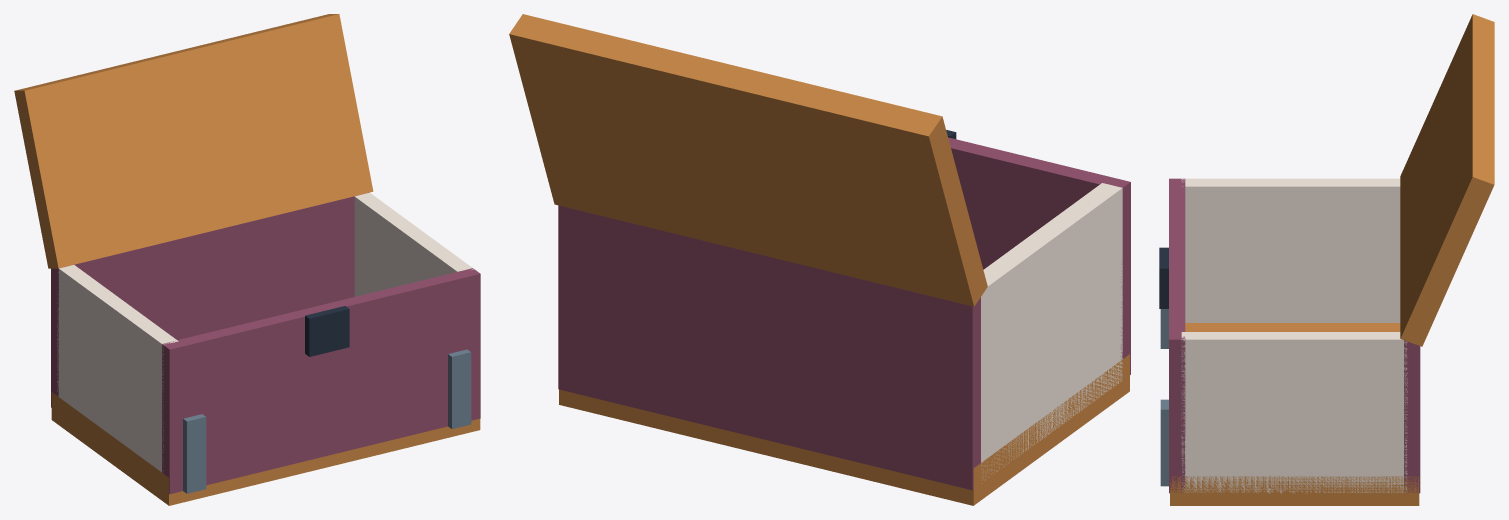
3 views of the same model, side by side, from view 1: azimuth 30°, elevation 25°; view 2: azimuth 150°, elevation 25°; view 3: azimuth 270°, elevation 25° (orthographic). The views are drawn at different scales.
Parts seen in each view (by area): view 1: raised lid, panel 0.5, panel -0.5, end panel -0.77, floor, end panel 0.77, clasp, corner 0.69, corner -0.69; view 2: raised lid, panel -0.5, end panel -0.77, floor, panel 0.5; view 3: end panel 0.77, end panel -0.77, raised lid, floor, panel 0.5, panel -0.5, corner 0.69, clasp.
Boxes of the visible parts, x1,y1,x2,y2 form: raised lid: [14, 14, 373, 268]; panel 0.5: [162, 268, 480, 494]; panel -0.5: [51, 195, 356, 407]; end panel -0.77: [57, 265, 178, 472]; floor: [51, 392, 480, 505]; end panel 0.77: [354, 192, 473, 296]; clasp: [305, 306, 349, 356]; corner 0.69: [448, 349, 471, 428]; corner -0.69: [183, 414, 206, 493]; raised lid: [509, 14, 987, 306]; panel -0.5: [558, 205, 980, 490]; end panel -0.77: [981, 183, 1122, 483]; floor: [559, 354, 1129, 505]; panel 0.5: [948, 137, 1130, 377]; end panel 0.77: [1181, 332, 1407, 493]; end panel -0.77: [1181, 178, 1400, 322]; raised lid: [1400, 14, 1494, 346]; floor: [1170, 323, 1419, 505]; panel 0.5: [1169, 178, 1185, 493]; panel -0.5: [1404, 340, 1420, 493]; corner 0.69: [1160, 399, 1168, 486]; clasp: [1159, 247, 1168, 308].
Size of the model in its own units: 1.64 by 1.55 by 1.42.
